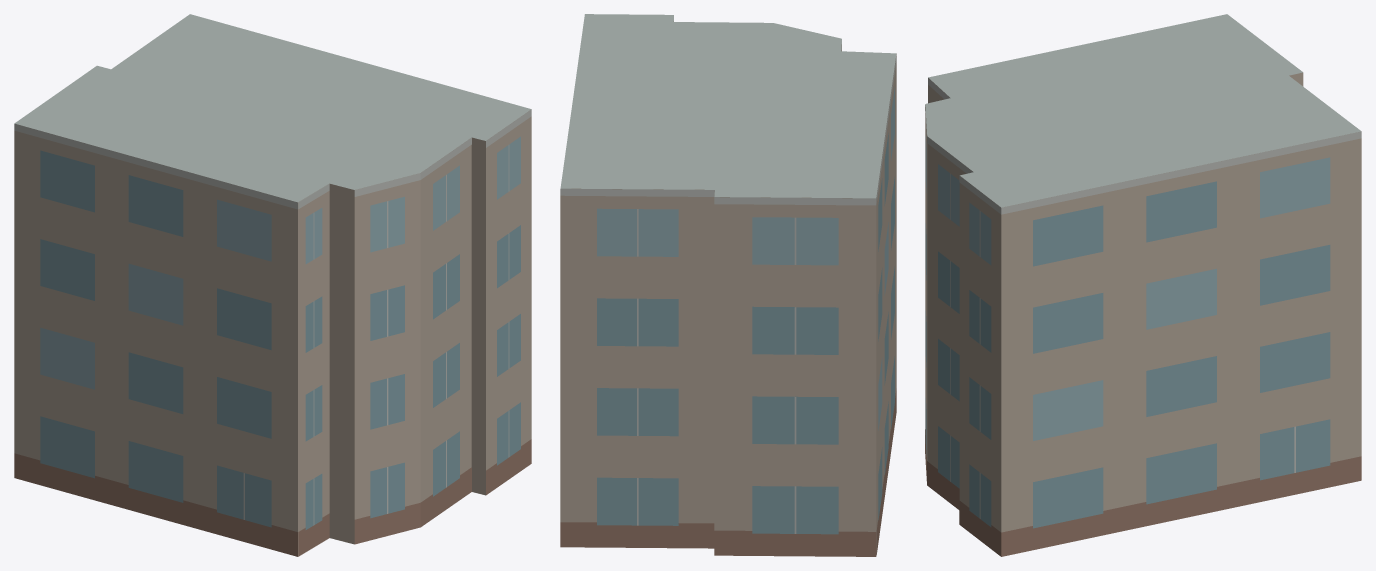
Rendered from survey-upis-32594664.glb.
3 renders of one model, left to right at view 1: azimuth 30°, elevation 25°; view 2: azimuth 150°, elevation 25°; view 3: azimuth 270°, elevation 25°, orthographic. The views are drawn at different scales.
Visible parts, largest first — view 1: survey-upis-32594664.tmp; view 2: survey-upis-32594664.tmp; view 3: survey-upis-32594664.tmp.
Part boxes in pixels (x1,y1,x2,y2): survey-upis-32594664.tmp: [14, 14, 531, 556]; survey-upis-32594664.tmp: [560, 14, 896, 556]; survey-upis-32594664.tmp: [925, 14, 1361, 556].
Bounding box in the file's own units: 14.52 × 12.2 × 13.83.
